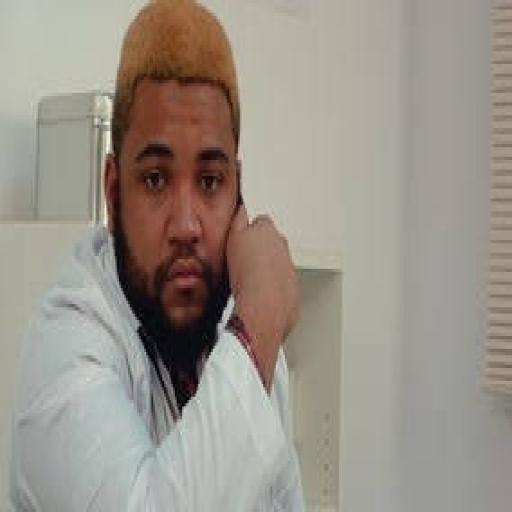calling: (7, 0, 308, 509)
